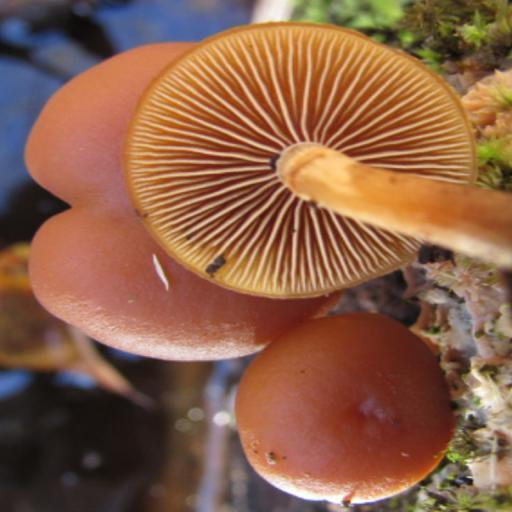mushroom: (26, 23, 462, 499)
